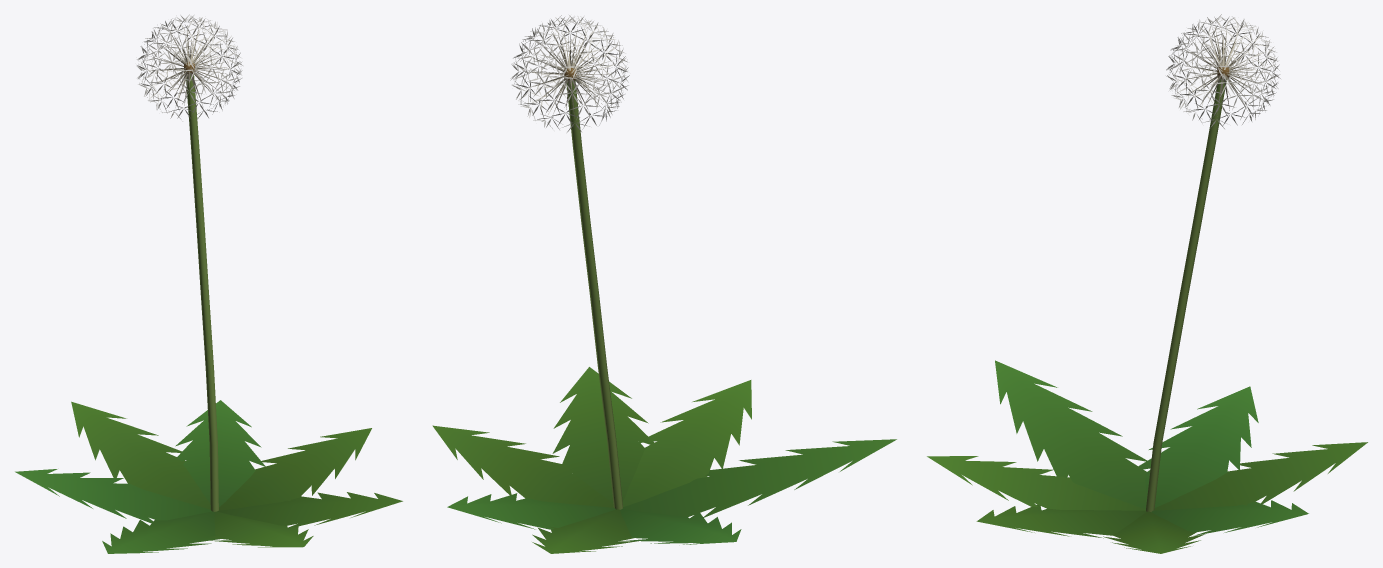
The model's file is dandelion-seedhead-a.lod0.glb.
3 views of the same model, side by side, from view 1: azimuth 30°, elevation 25°; view 2: azimuth 150°, elevation 25°; view 3: azimuth 270°, elevation 25° (orthographic). The views are drawn at different scales.
Visible parts, largest first — view 1: dandelion-seedhead-a.lod0; view 2: dandelion-seedhead-a.lod0; view 3: dandelion-seedhead-a.lod0.
Part boxes in pixels (box(x1,y1,x2,y2)): dandelion-seedhead-a.lod0: box(15, 14, 402, 553); dandelion-seedhead-a.lod0: box(432, 15, 896, 553); dandelion-seedhead-a.lod0: box(927, 14, 1367, 553).
Size of the model in its own units: 0.2682 by 0.3536 by 0.2807.
